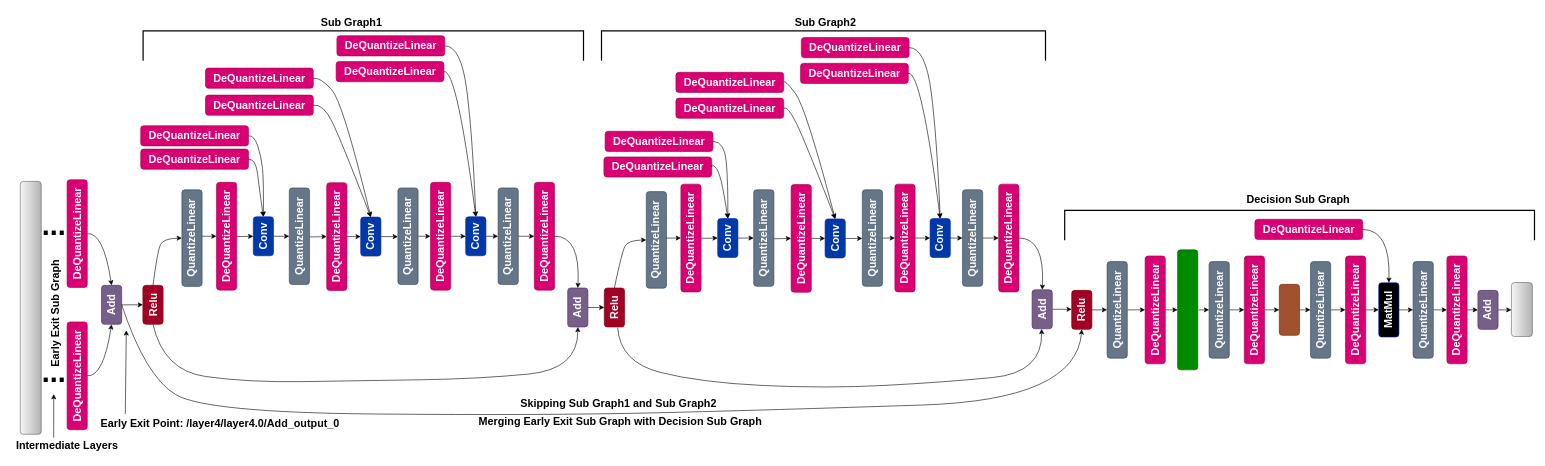
Image size: 1545x466. Some labels were removed from this diagram. The centre of each missing label's shape, as x and y in pixels:
Flatten: point 1289,309
GlobalAveragePool: point 1187,309
Input: point 30,307
Output: point 1521,309
